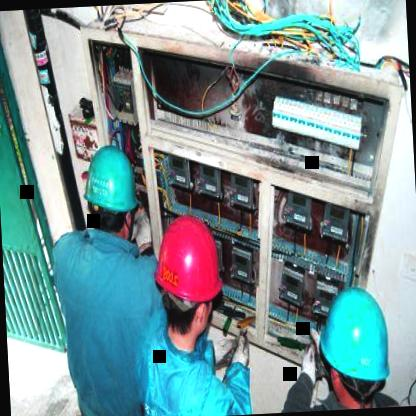helmet: (311, 274, 401, 410), (146, 212, 230, 350), (74, 136, 141, 244)
